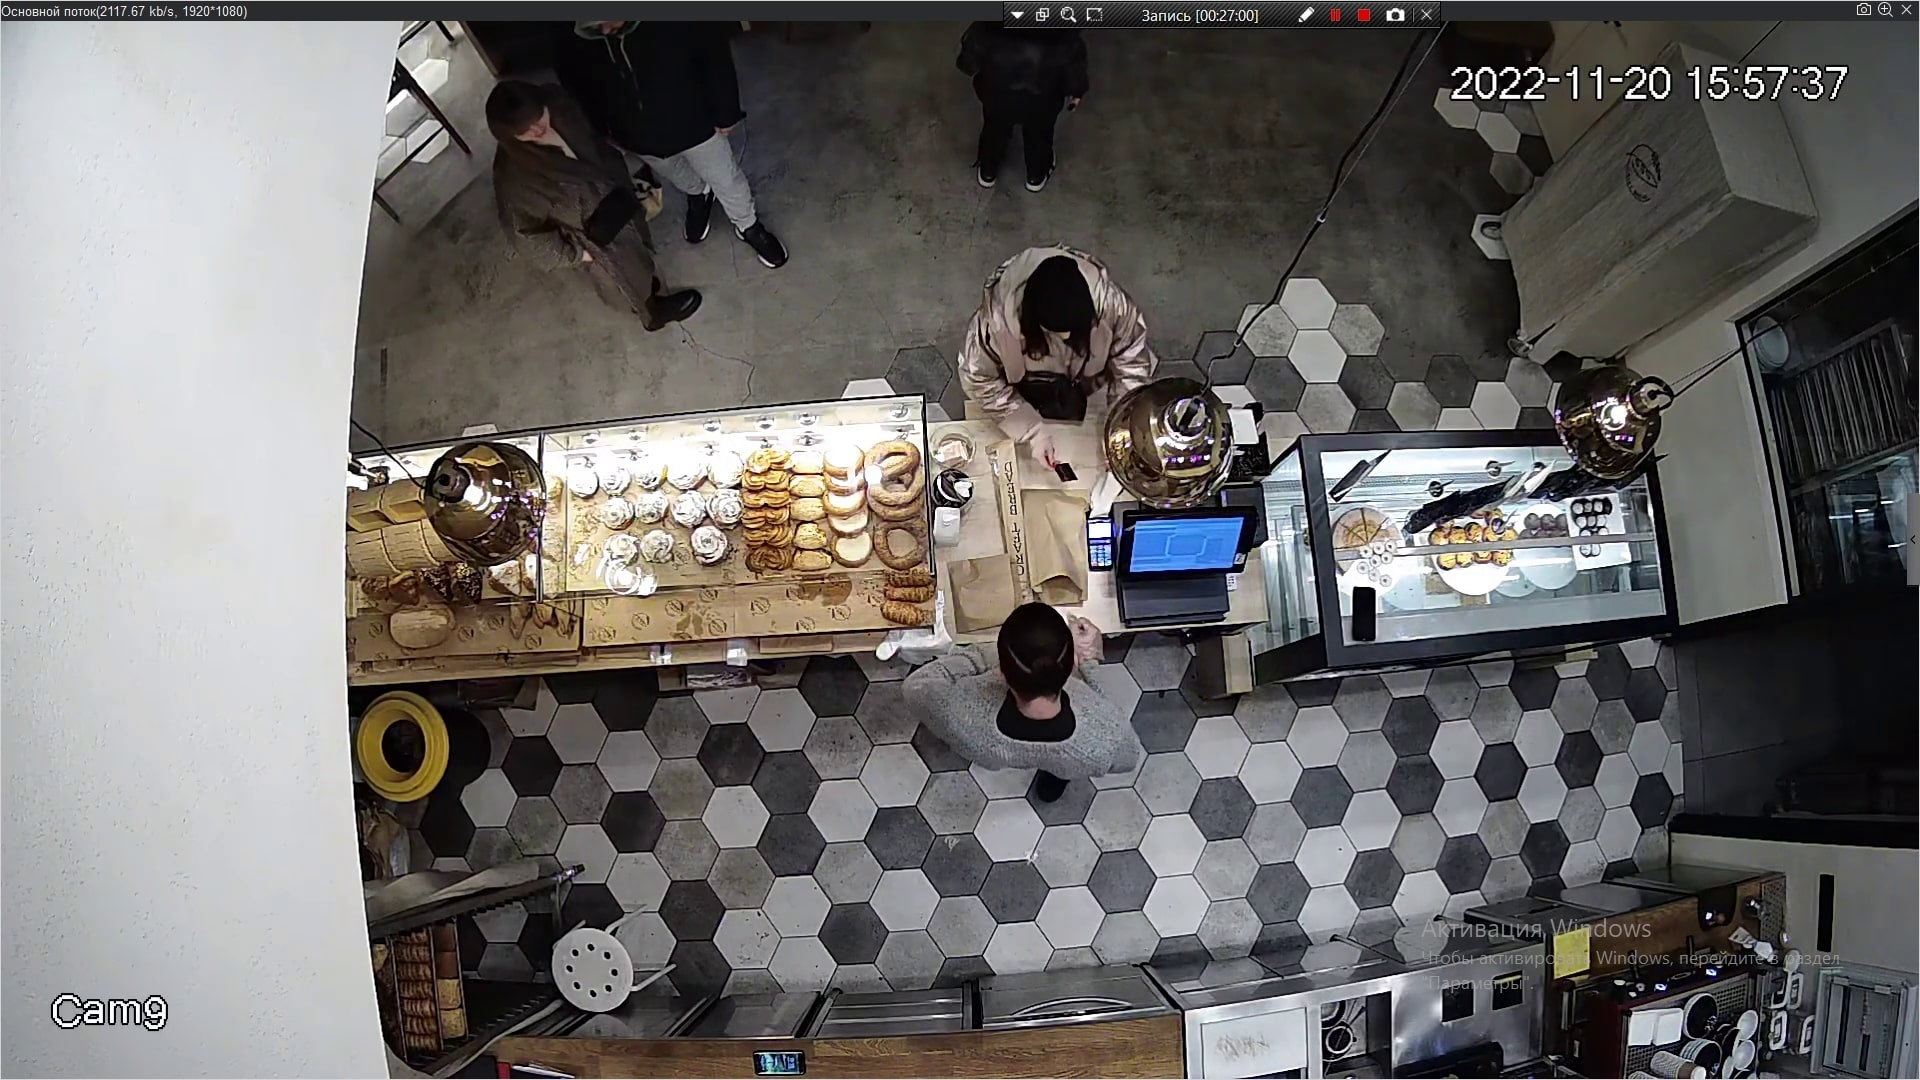barcounter: (364, 432, 1696, 675)
pack: (1016, 486, 1089, 607), (943, 555, 1025, 639), (982, 439, 1021, 543)
person: (552, 25, 793, 261), (487, 80, 696, 332), (966, 250, 1152, 409)
